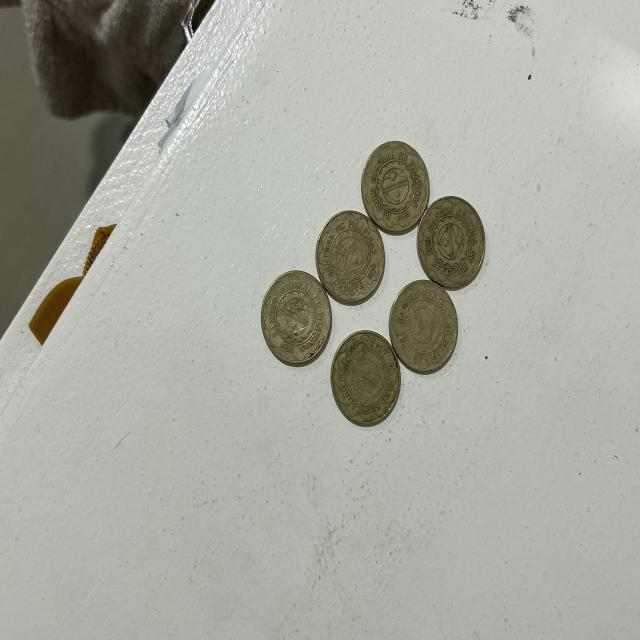5_Old_Back: (257, 266, 336, 372), (314, 206, 389, 306), (360, 137, 426, 240), (388, 280, 457, 377), (418, 194, 486, 291), (335, 332, 398, 424)
